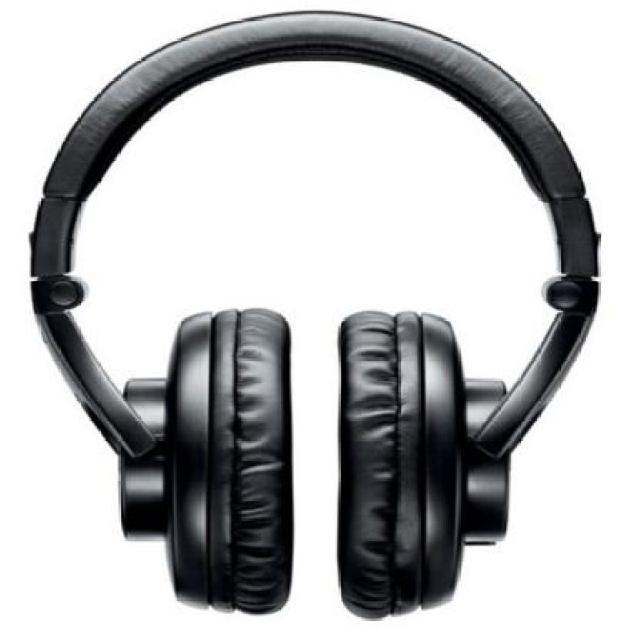earphone: (14, 15, 608, 603)
